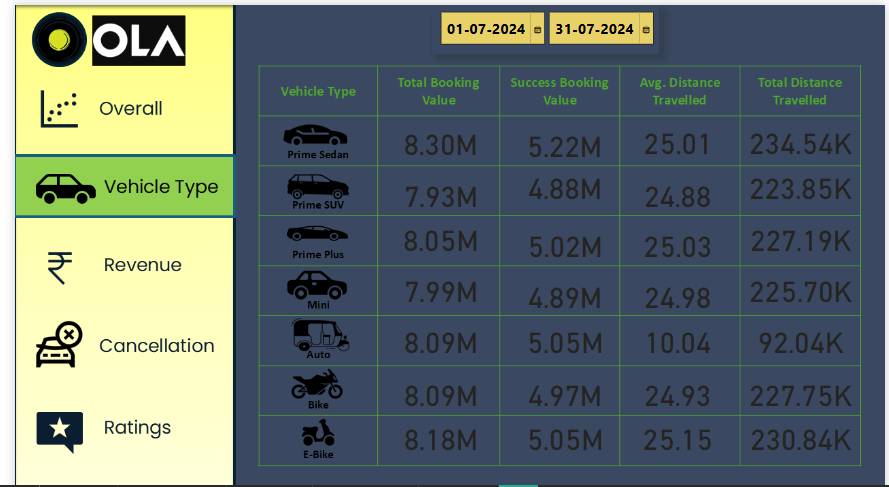

Layout of this report page (visuals, bound fields, positions):
{"tool":"powerbi","page":{"name":"Vehicle Type","canvas":[1280,720],"ordinal":1},"visuals":[{"type":"actionButton","box":[0,110.2,323.3,94],"z":0},{"type":"actionButton","box":[0,338,323.3,94],"z":1000},{"type":"actionButton","box":[0,574.5,323.3,94],"z":2000},{"type":"actionButton","box":[0,459.9,323.3,94],"z":3000},{"type":"card","fields":{"Values":["Sum(July.Booking_Value)"]},"box":[534.9,167.5,180.7,66.1],"z":4000},{"type":"card","fields":{"Values":["Sum(July.Booking_Value)"]},"box":[535.9,245.2,181.4,65.5],"z":5000},{"type":"card","fields":{"Values":["Sum(July.Booking_Value)"]},"box":[535.9,310.8,181.4,65.5],"z":6000},{"type":"card","fields":{"Values":["Sum(July.Booking_Value)"]},"box":[535.9,384.7,181.4,65.5],"z":7000},{"type":"card","fields":{"Values":["Sum(July.Booking_Value)"]},"box":[535.9,460.3,181.4,65.5],"z":8000},{"type":"card","fields":{"Values":["Sum(July.Booking_Value)"]},"box":[535.9,537.5,181.4,65.5],"z":9000},{"type":"card","fields":{"Values":["Sum(July.Booking_Value)"]},"box":[535.9,603,181.4,65.5],"z":10000},{"type":"card","fields":{"Values":["Sum(July.Booking_Value)"]},"box":[715.6,170.4,182.2,66.1],"z":11000},{"type":"card","fields":{"Values":["Sum(July.Booking_Value)"]},"box":[717.3,233.5,181.4,65.5],"z":12000},{"type":"card","fields":{"Values":["Sum(July.Booking_Value)"]},"box":[717.3,319.2,181.4,65.5],"z":13000},{"type":"card","fields":{"Values":["Sum(July.Booking_Value)"]},"box":[717.3,460.3,181.4,65.5],"z":14000},{"type":"card","fields":{"Values":["Sum(July.Booking_Value)"]},"box":[717.3,537.5,181.4,65.5],"z":15000},{"type":"card","fields":{"Values":["Sum(July.Booking_Value)"]},"box":[717.3,603,181.4,65.5],"z":16000},{"type":"card","fields":{"Values":["Sum(July.Booking_Value)"]},"box":[717.3,394.8,181.4,65.5],"z":17000},{"type":"card","fields":{"Values":["Avg(July.Ride_Distance)"]},"box":[883.6,168,181.4,65.5],"z":18000},{"type":"card","fields":{"Values":["Avg(July.Ride_Distance)"]},"box":[883.6,245.2,181.4,65.5],"z":19000},{"type":"card","fields":{"Values":["Avg(July.Ride_Distance)"]},"box":[883.6,319.2,181.4,65.5],"z":20000},{"type":"card","fields":{"Values":["Avg(July.Ride_Distance)"]},"box":[883.6,394.8,181.4,65.5],"z":21000},{"type":"card","fields":{"Values":["Avg(July.Ride_Distance)"]},"box":[883.6,460.3,181.4,65.5],"z":22000},{"type":"card","fields":{"Values":["Avg(July.Ride_Distance)"]},"box":[883.6,537.5,181.4,65.5],"z":23000},{"type":"card","fields":{"Values":["Avg(July.Ride_Distance)"]},"box":[883.6,603,181.4,65.5],"z":24000},{"type":"card","fields":{"Values":["Sum(July.Ride_Distance)"]},"box":[1065,168,181.4,65.5],"z":25000},{"type":"card","fields":{"Values":["Sum(July.Ride_Distance)"]},"box":[1065,233.5,181.4,65.5],"z":26000},{"type":"card","fields":{"Values":["Sum(July.Ride_Distance)"]},"box":[1065,310.8,181.4,65.5],"z":27000},{"type":"card","fields":{"Values":["Sum(July.Ride_Distance)"]},"box":[1065,537.5,181.4,65.5],"z":28000},{"type":"card","fields":{"Values":["Sum(July.Ride_Distance)"]},"box":[1065,384.7,181.4,65.5],"z":29000},{"type":"card","fields":{"Values":["Sum(July.Ride_Distance)"]},"box":[1065,460.3,181.4,65.5],"z":30000},{"type":"card","fields":{"Values":["Sum(July.Ride_Distance)"]},"box":[1065,603,181.4,65.5],"z":31000},{"type":"slicer","title":"Date","fields":{"Values":["July.Date"]},"box":[612.7,0,333.6,72],"z":32000}]}

Visuals, with their boxes in screenshot pixels (x1, y1, x2, y2), scaled from the page's 1280x720 canvas onto the 889x487 screenshot:
actionButton: 0:75:225:138
actionButton: 0:229:225:292
actionButton: 0:389:225:452
actionButton: 0:311:225:375
card - Sum(July.Booking_Value): 372:113:497:158
card - Sum(July.Booking_Value): 372:166:498:210
card - Sum(July.Booking_Value): 372:210:498:255
card - Sum(July.Booking_Value): 372:260:498:305
card - Sum(July.Booking_Value): 372:311:498:356
card - Sum(July.Booking_Value): 372:364:498:408
card - Sum(July.Booking_Value): 372:408:498:452
card - Sum(July.Booking_Value): 497:115:624:160
card - Sum(July.Booking_Value): 498:158:624:202
card - Sum(July.Booking_Value): 498:216:624:260
card - Sum(July.Booking_Value): 498:311:624:356
card - Sum(July.Booking_Value): 498:364:624:408
card - Sum(July.Booking_Value): 498:408:624:452
card - Sum(July.Booking_Value): 498:267:624:311
card - Avg(July.Ride_Distance): 614:114:740:158
card - Avg(July.Ride_Distance): 614:166:740:210
card - Avg(July.Ride_Distance): 614:216:740:260
card - Avg(July.Ride_Distance): 614:267:740:311
card - Avg(July.Ride_Distance): 614:311:740:356
card - Avg(July.Ride_Distance): 614:364:740:408
card - Avg(July.Ride_Distance): 614:408:740:452
card - Sum(July.Ride_Distance): 740:114:866:158
card - Sum(July.Ride_Distance): 740:158:866:202
card - Sum(July.Ride_Distance): 740:210:866:255
card - Sum(July.Ride_Distance): 740:364:866:408
card - Sum(July.Ride_Distance): 740:260:866:305
card - Sum(July.Ride_Distance): 740:311:866:356
card - Sum(July.Ride_Distance): 740:408:866:452
"Date" slicer: 426:0:657:49
